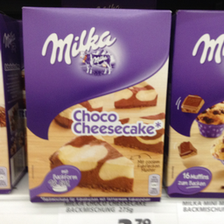cake: (20, 5, 171, 204), (165, 8, 224, 198)
